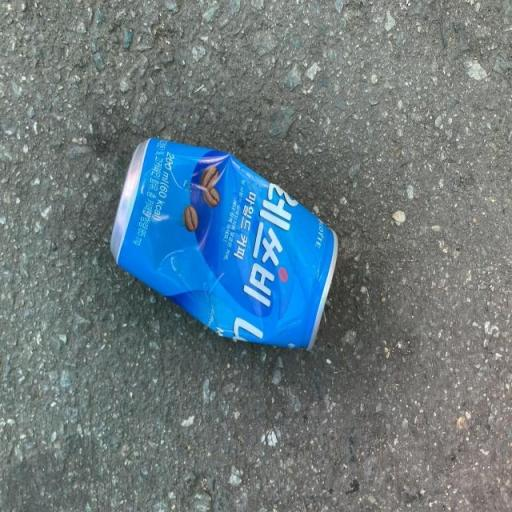metal: (98, 106, 354, 384)
